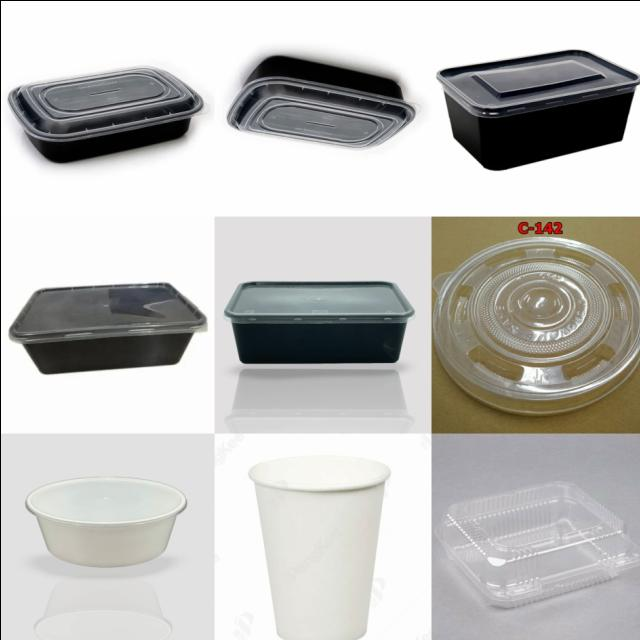plastik: (433, 236, 640, 414), (248, 455, 389, 640), (434, 480, 640, 606), (436, 49, 640, 169), (7, 66, 203, 161), (8, 282, 206, 373), (227, 55, 414, 146), (223, 281, 414, 362), (25, 477, 186, 566)
